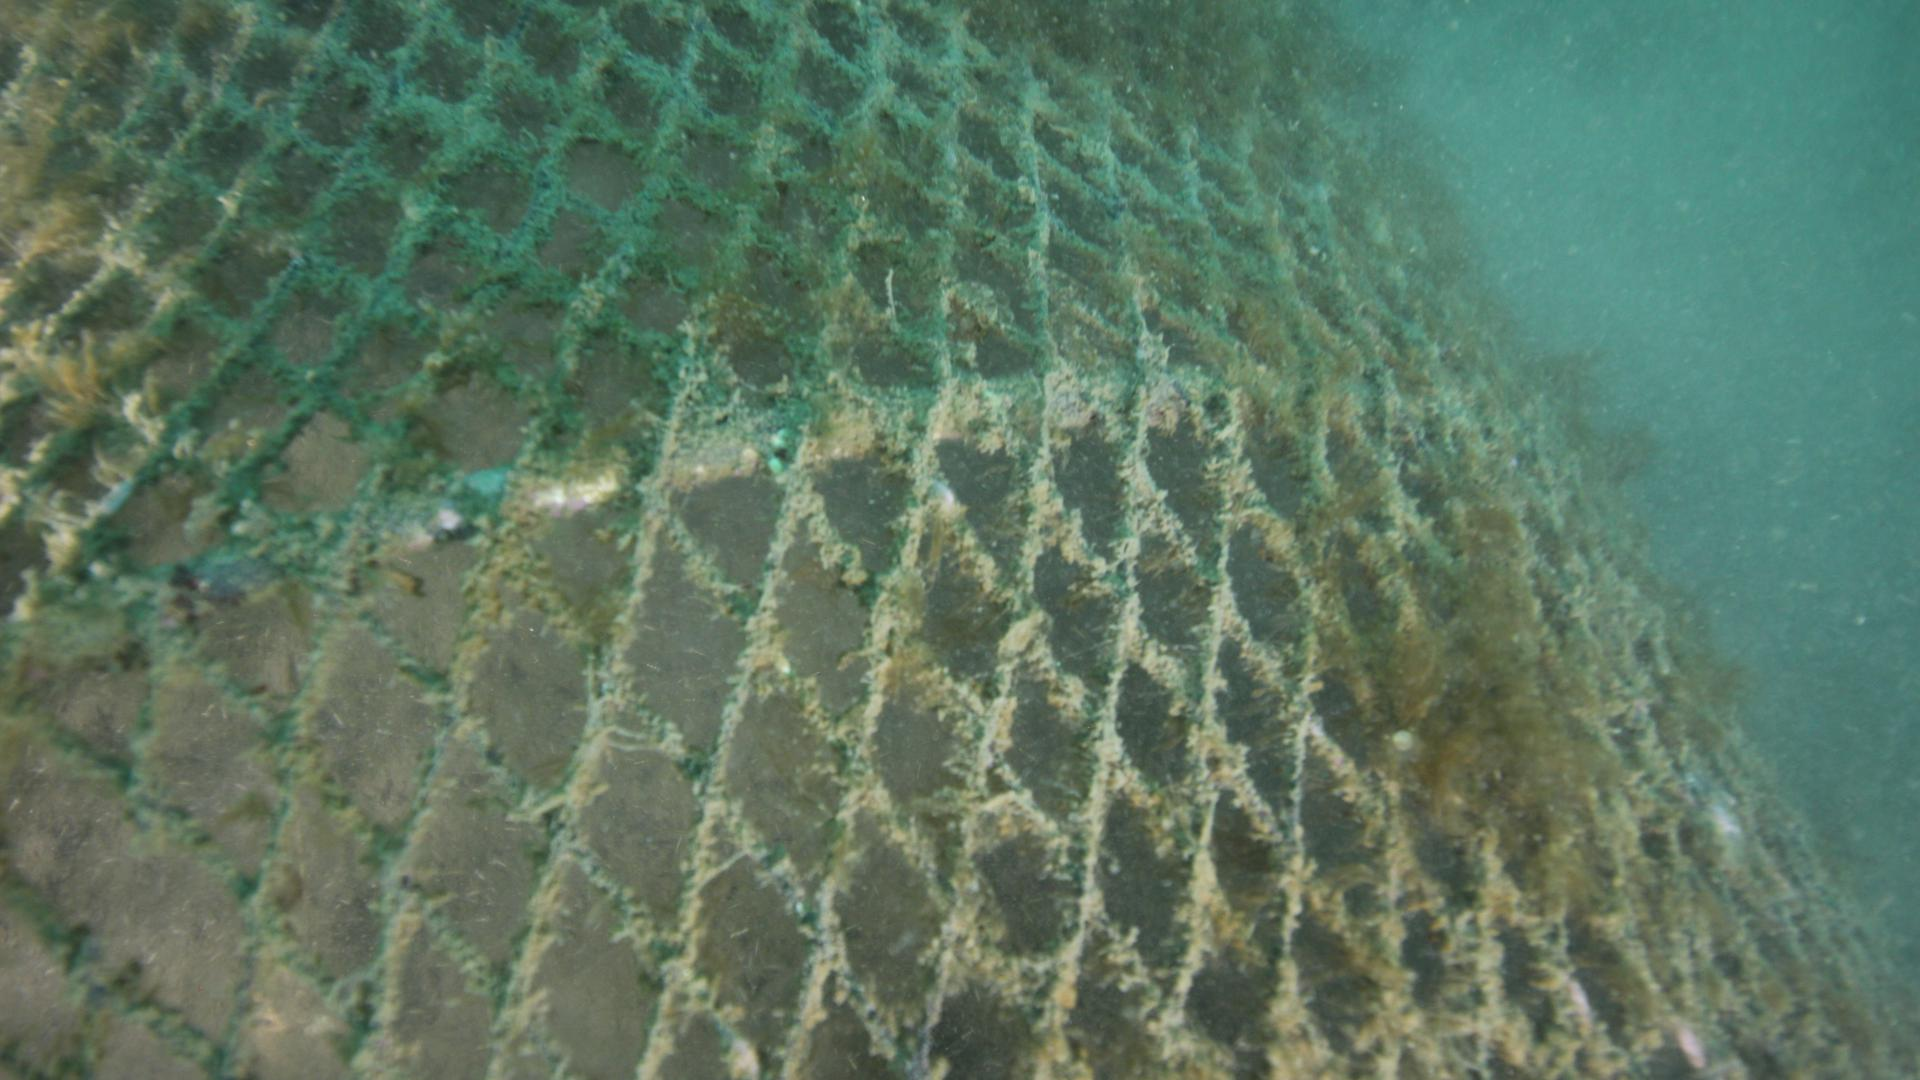fish net: (3, 0, 1920, 1080)
